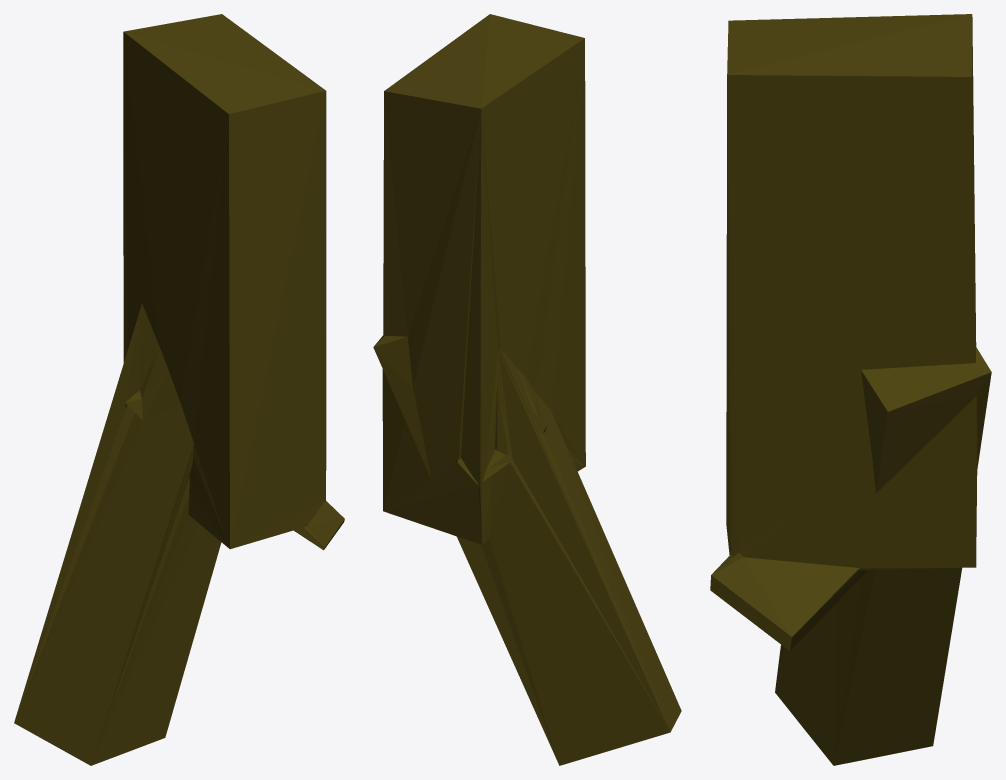
3 views of the same model, side by side, from view 1: azimuth 30°, elevation 25°; view 2: azimuth 150°, elevation 25°; view 3: azimuth 270°, elevation 25° (orthographic). The views are drawn at different scales.
Parts seen in each view (by area): view 1: 850_Cube.3432; view 2: 850_Cube.3432; view 3: 850_Cube.3432.
Part boxes in pixels (x1=…): 850_Cube.3432: x1=14, y1=14, x2=344, y2=765; 850_Cube.3432: x1=373, y1=14, x2=681, y2=765; 850_Cube.3432: x1=710, y1=14, x2=991, y2=765.
Size of the model in its own units: 8.48 by 18.31 by 6.09.
